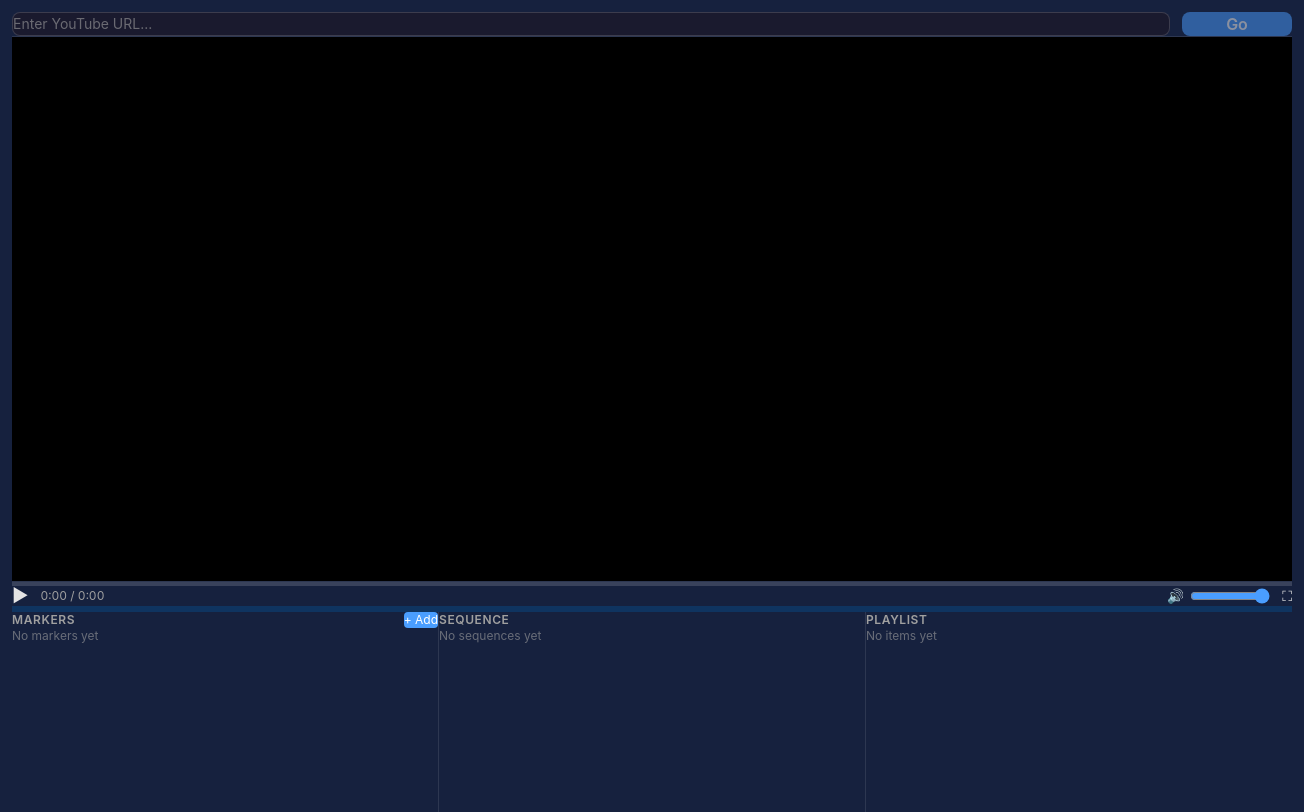
it: App - US-1.1: URLから動画を読み込む › Scenario: 有効なYouTube URLで動画を読み込む › Given ユーザーがStream Player Webを開いている When YouTube URLを入力してGoをクリック Then 動画が読み込まれタイトルが表示される
This screenshot has width=1304, height=812.
Type "https://www.youtube.com/watch?v=dQw4w9WgXcQ" into the field with test id "url-input" at (591, 24), box top-left (12, 12), bottom-right (1170, 36)
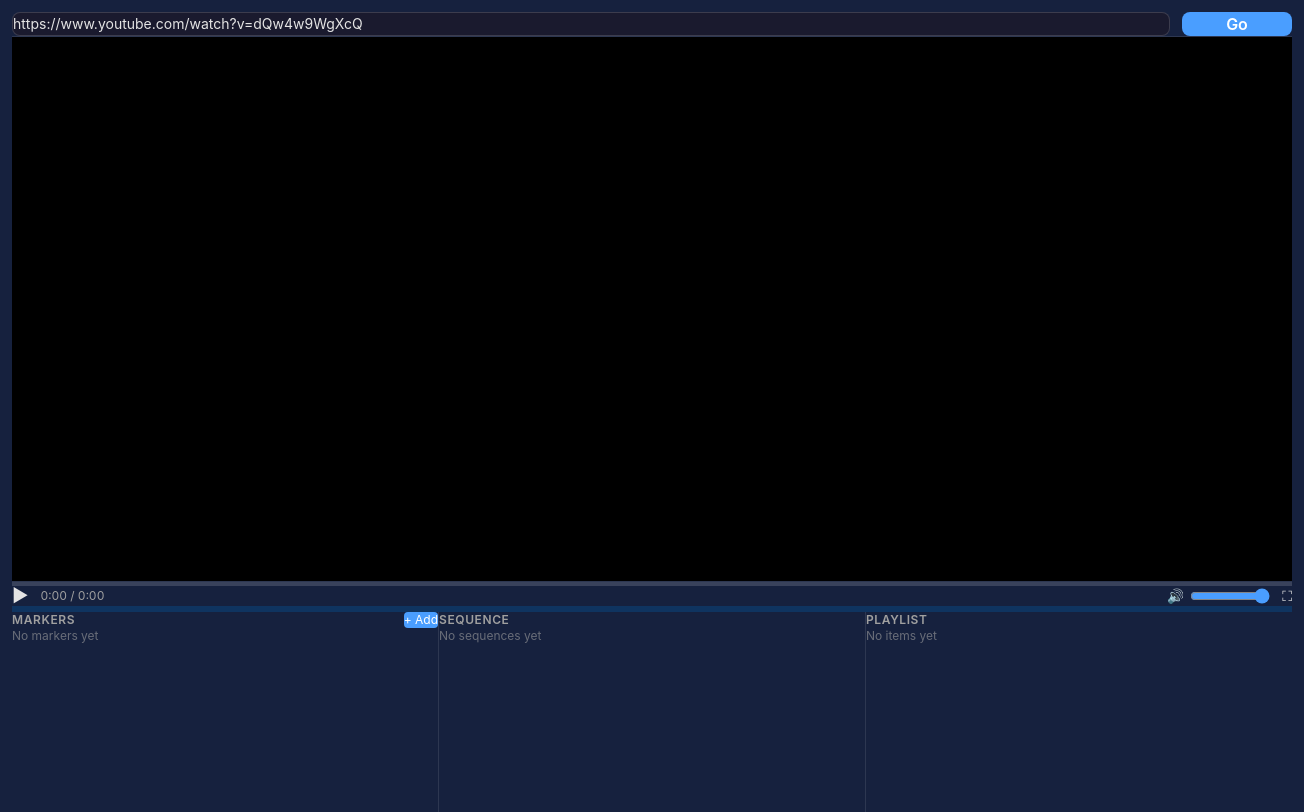
Click the button with test id "url-submit" at (1237, 24), box top-left (1182, 12), bottom-right (1292, 36)
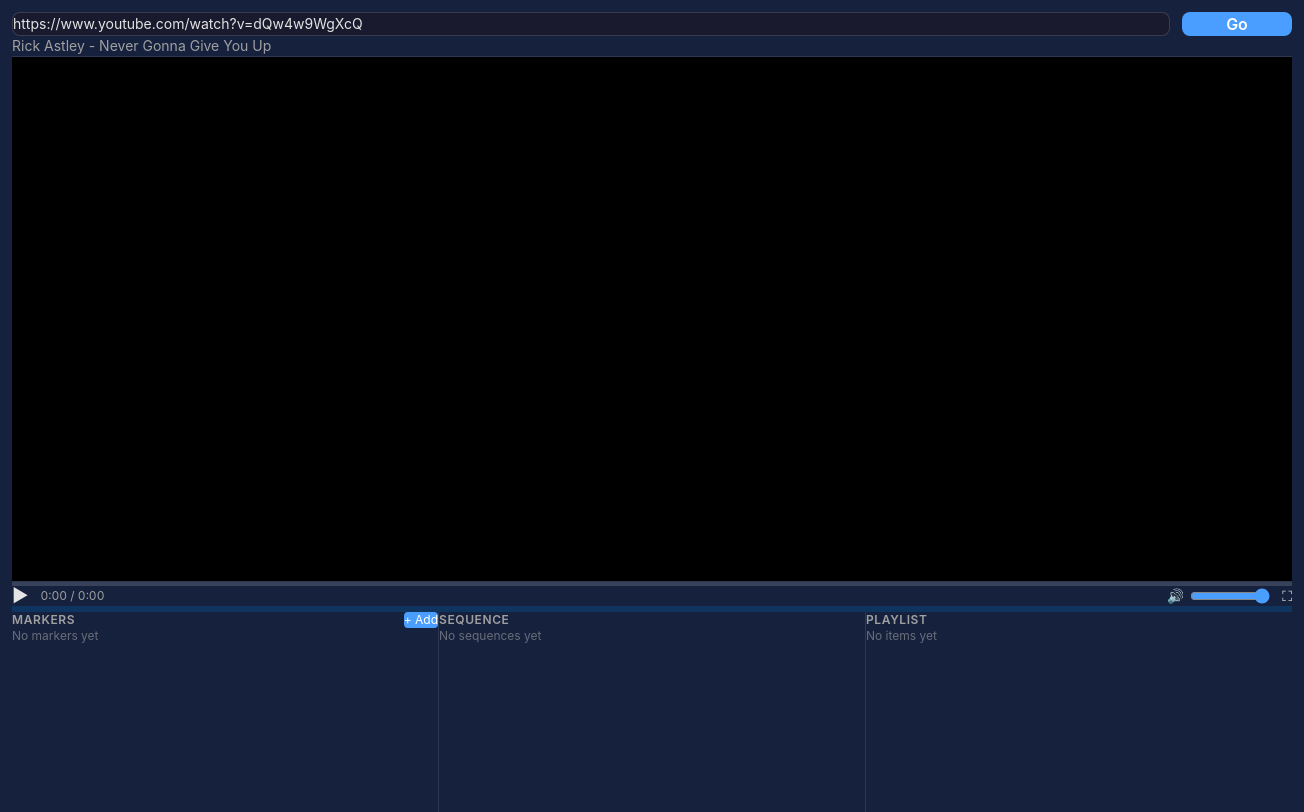
Expected: the text with test id "video-title" reads "Rick Astley - Never Gonna Give You Up", top-left (12, 37), bottom-right (271, 54)
